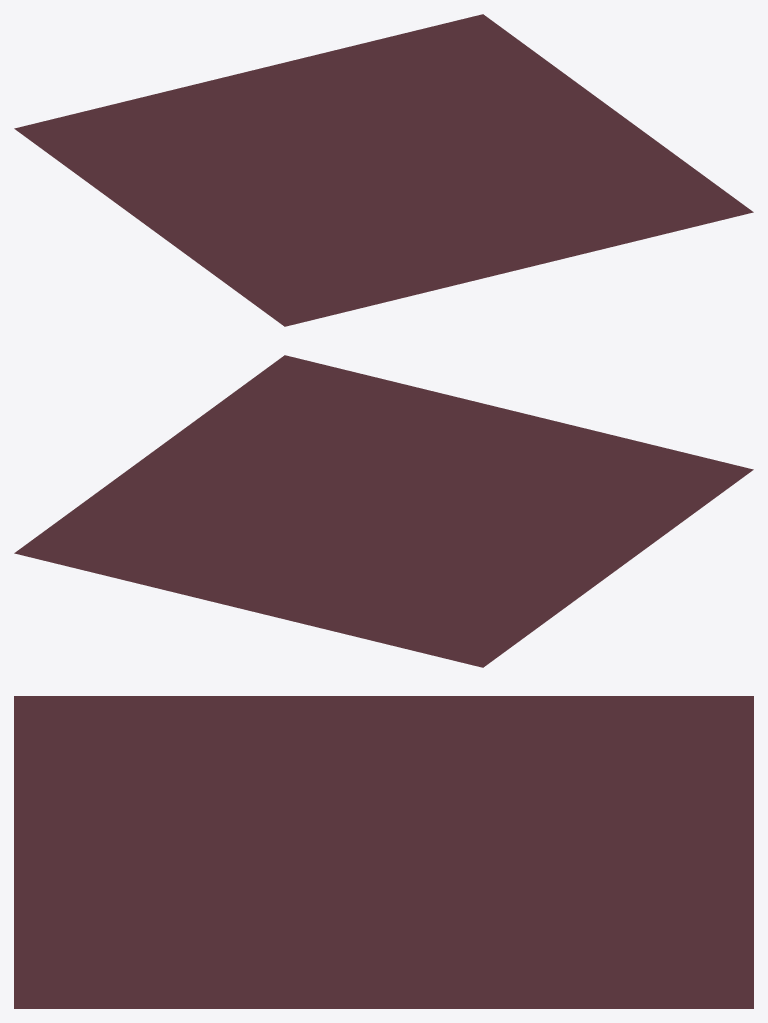
The model's file is tile-runway-turn-nb.fbx.
The picture shows the model from 3 angles, top to bottom: view 1: azimuth 30°, elevation 25°; view 2: azimuth 150°, elevation 25°; view 3: azimuth 270°, elevation 25°; orthographic projection. The views are drawn at different scales.
Parts seen in each view (by area): view 1: tile-runway-turn-nb; view 2: tile-runway-turn-nb; view 3: tile-runway-turn-nb.
Part boxes in pixels (x1,y1,x2,y2): tile-runway-turn-nb: [14, 14, 753, 326]; tile-runway-turn-nb: [14, 355, 753, 667]; tile-runway-turn-nb: [14, 696, 753, 1008].
Size of the model in its own units: 30 by 2.38e-07 by 30.
